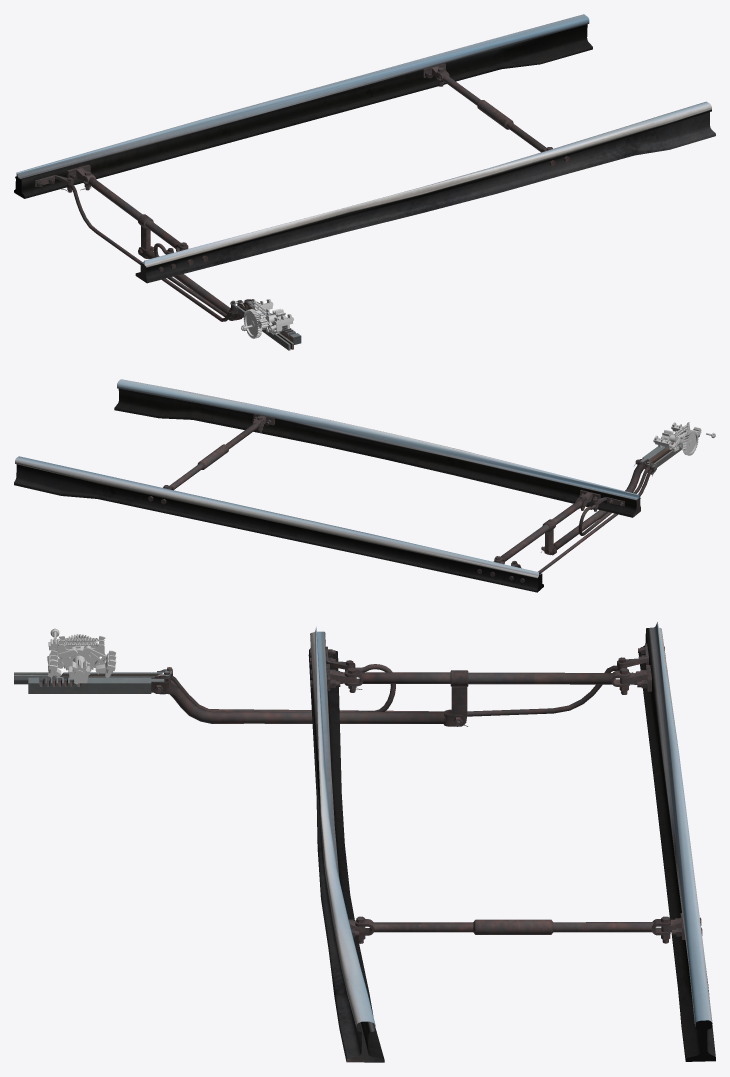
File: sp6_ani_10_StrelMinus_FrictPlus.fbx
3 views of the same model, one above another, from view 1: azimuth 30°, elevation 25°; view 2: azimuth 150°, elevation 25°; view 3: azimuth 270°, elevation 25° (orthographic). The views are drawn at different scales.
Visible parts, largest first — view 1: ostr_left, ostr_right, soedenit_tyaga_1, soedenit_tyaga_2, tyag_contrl_long, rab_tyaga; view 2: ostr_right, ostr_left, soedenit_tyaga_1, soedenit_tyaga_2, rab_tyaga, tyag_contrl_long, tyag_contrl_short; view 3: ostr_right, ostr_left, soedenit_tyaga_1, soedenit_tyaga_2, rab_tyaga, shiber, tyag_contrl_long, line_01.
Boxes of the visible parts, x1,y1,x2,y2 form: ostr_left: [14, 14, 592, 198]; ostr_right: [135, 101, 715, 283]; soedenit_tyaga_1: [80, 171, 188, 251]; soedenit_tyaga_2: [436, 67, 552, 152]; tyag_contrl_long: [61, 177, 235, 321]; rab_tyaga: [138, 246, 259, 320]; ostr_right: [114, 379, 640, 517]; ostr_left: [14, 456, 543, 592]; soedenit_tyaga_1: [494, 495, 586, 564]; soedenit_tyaga_2: [163, 416, 263, 490]; rab_tyaga: [541, 459, 648, 555]; tyag_contrl_long: [512, 467, 654, 573]; tyag_contrl_short: [578, 465, 649, 535]; ostr_right: [308, 626, 384, 1062]; ostr_left: [617, 622, 715, 1061]; soedenit_tyaga_1: [344, 667, 630, 723]; soedenit_tyaga_2: [355, 916, 670, 943]; rab_tyaga: [152, 677, 467, 726]; shiber: [28, 677, 164, 693]; tyag_contrl_long: [170, 657, 632, 716]; line_01: [14, 671, 170, 684].
Size of the model in its own units: 3.84 by 0.3388 by 2.82.
